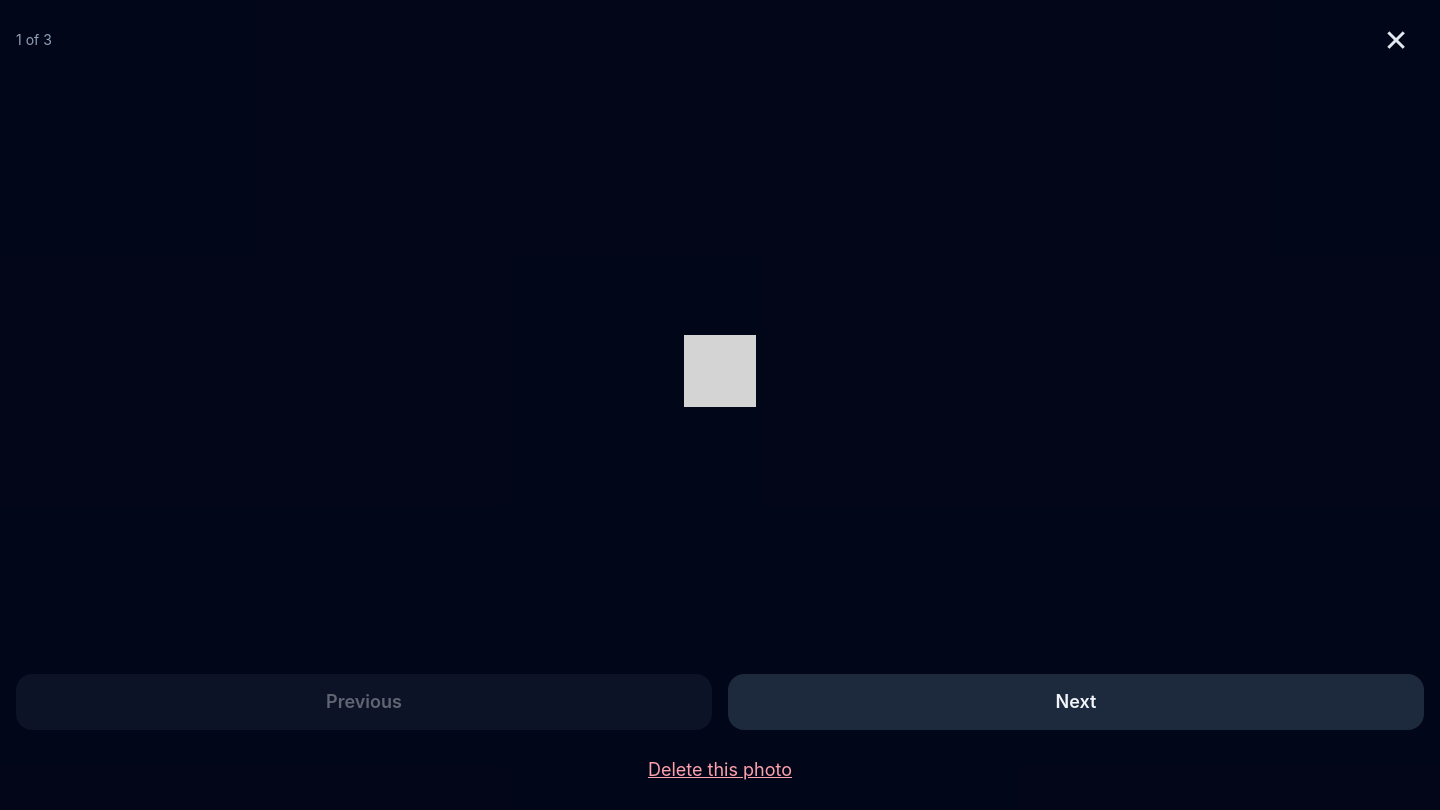
it: PhotoViewer › moves through the photos in the order they were taken
What coordinates should you click on to do the following:
click the button "Next"
I would click on:
 (1076, 702)
Its box is x1=728 y1=674 x2=1424 y2=730.
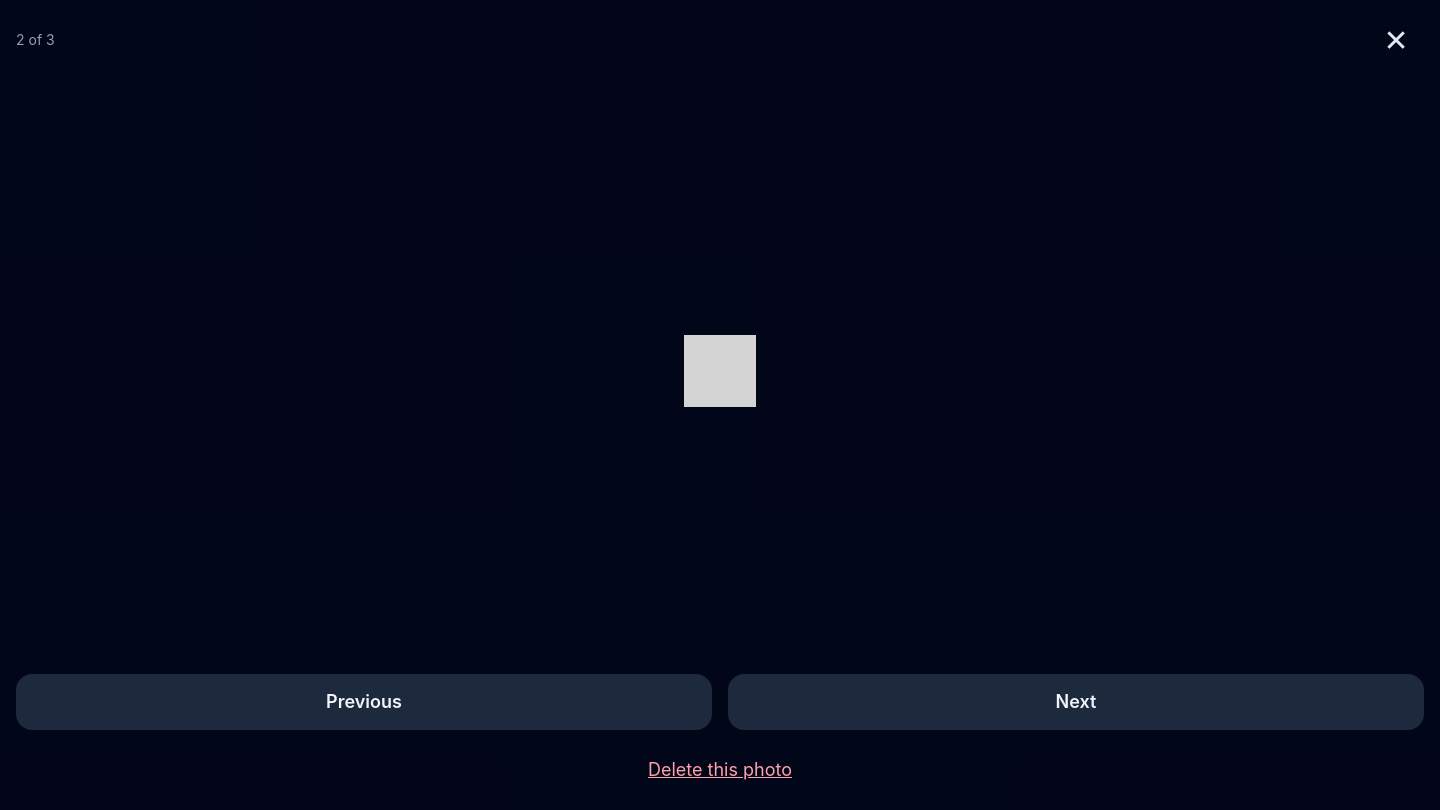
Check: the text "2 of 3" is shown, box x1=16 y1=30 x2=55 y2=50
What coordinates should you click on to do the following:
click the button "Previous"
I would click on:
 (364, 702)
Its box is x1=16 y1=674 x2=712 y2=730.
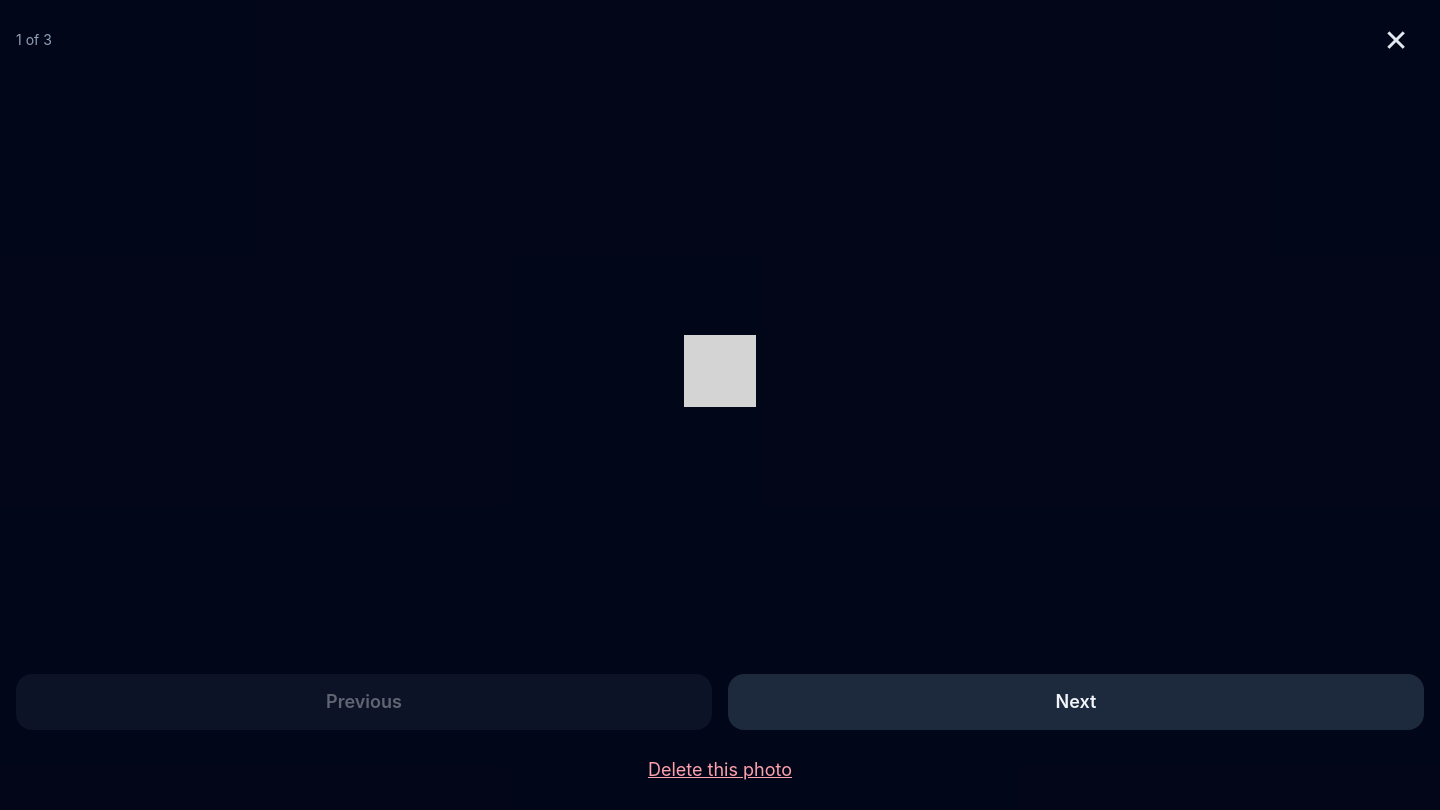
Check: the text "1 of 3" is shown, box x1=16 y1=30 x2=52 y2=50
